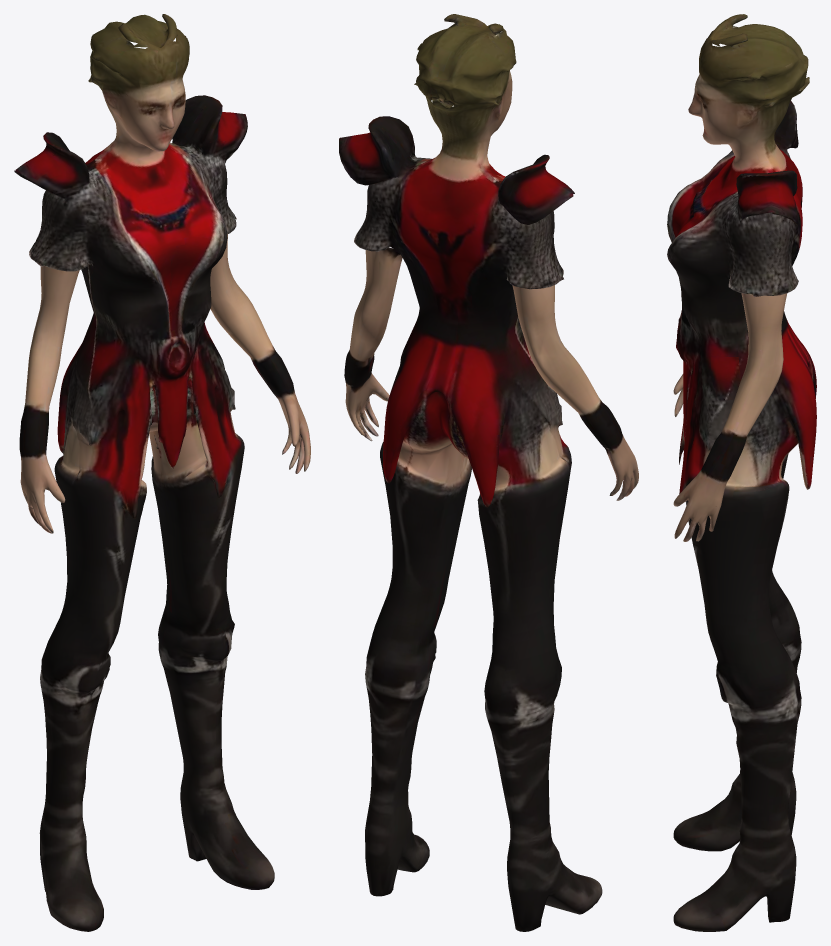
File: ignis-molok-female-archer.glb
The picture shows the model from 3 angles, left to right: view 1: azimuth 30°, elevation 25°; view 2: azimuth 150°, elevation 25°; view 3: azimuth 270°, elevation 25°; orthographic projection.
Visible parts, largest first — view 1: model; view 2: model; view 3: model.
Boxes of the visible parts, x1,y1,x2,y2 form: model: (14, 14, 310, 931); model: (339, 14, 638, 931); model: (667, 14, 816, 931).
Size of the model in its own units: 0.6274 by 1.89 by 0.2987.
1 material, 1 textured.
